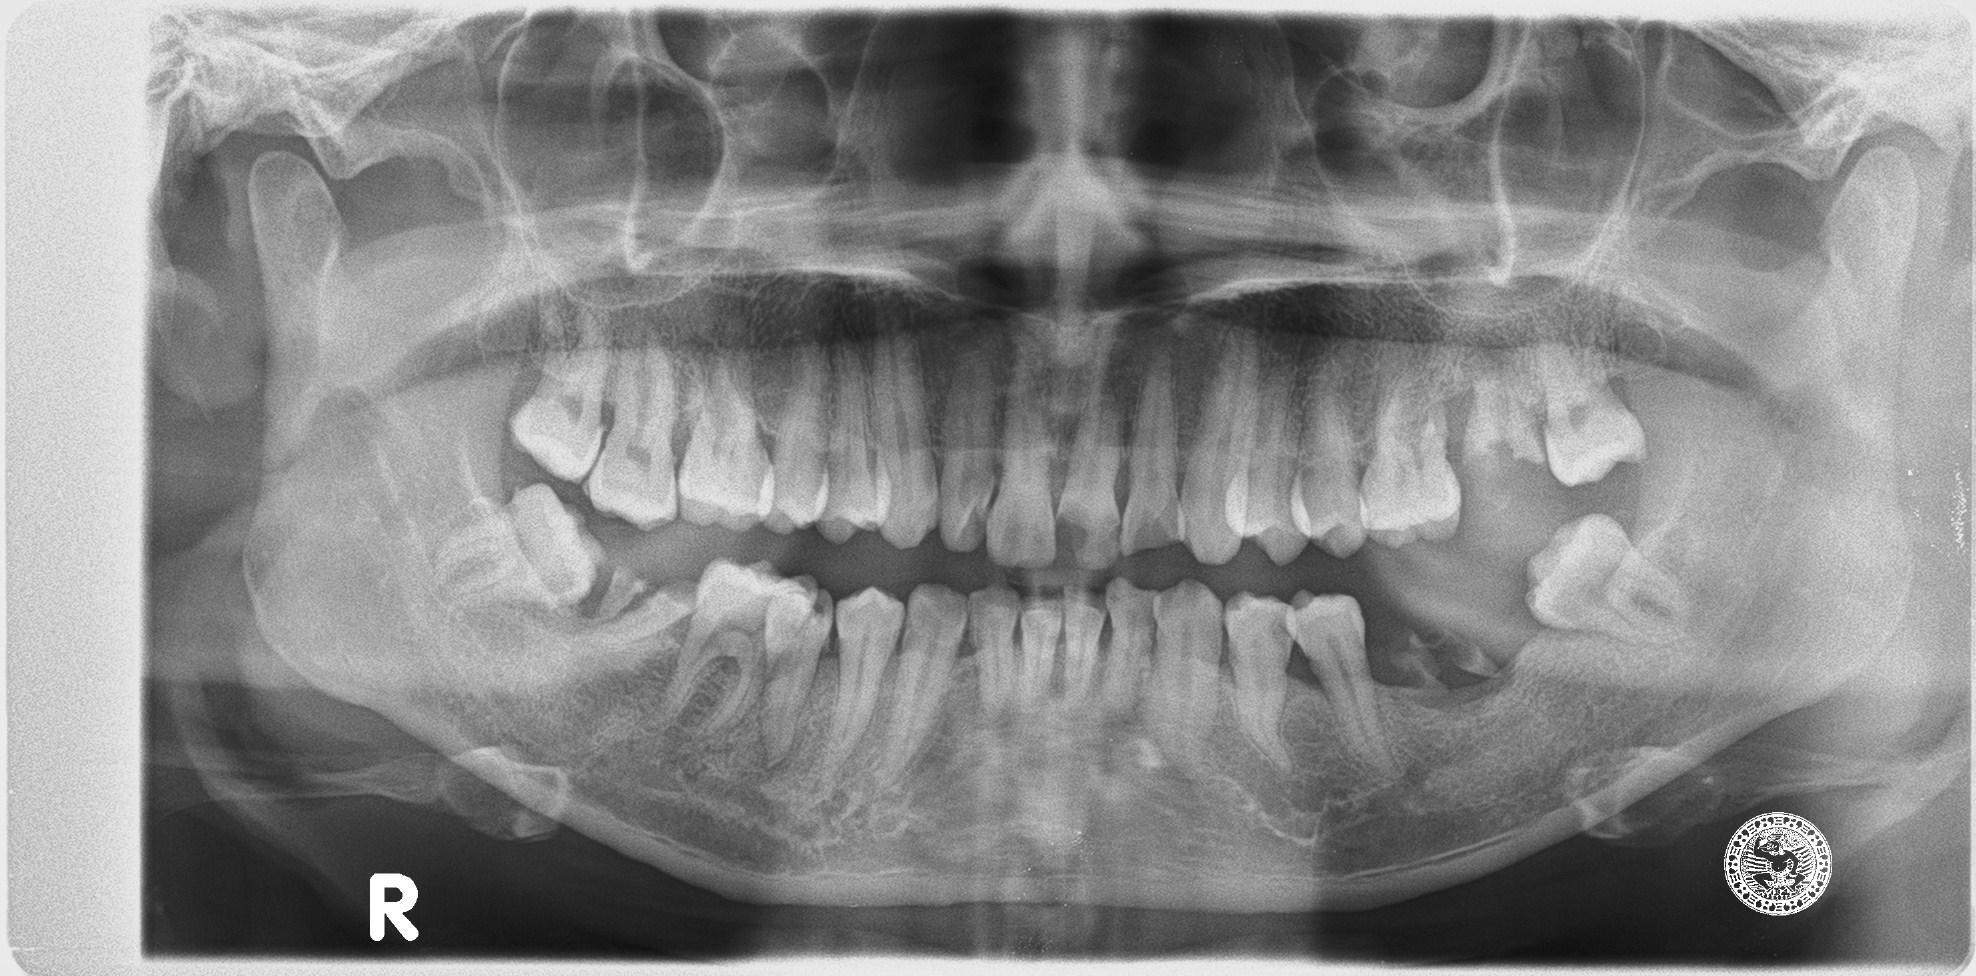Individual Tooth: (667, 562, 814, 728), (1527, 514, 1689, 646), (434, 485, 599, 612), (1284, 591, 1393, 774), (872, 585, 967, 794), (1225, 337, 1306, 562), (512, 309, 612, 483), (1358, 381, 1461, 547), (1181, 339, 1255, 562), (679, 359, 774, 530), (586, 351, 677, 525), (1290, 353, 1365, 557), (823, 588, 906, 769), (817, 346, 892, 543), (1537, 351, 1645, 485), (870, 335, 938, 547), (985, 364, 1056, 567), (1060, 352, 1122, 569), (1120, 346, 1185, 551), (939, 349, 1003, 550), (762, 346, 830, 533), (761, 578, 830, 762), (1151, 581, 1222, 748), (1225, 595, 1293, 769), (576, 588, 694, 649), (1104, 579, 1156, 712), (968, 586, 1020, 712), (1059, 588, 1106, 717), (1018, 595, 1064, 705), (596, 569, 648, 617)
